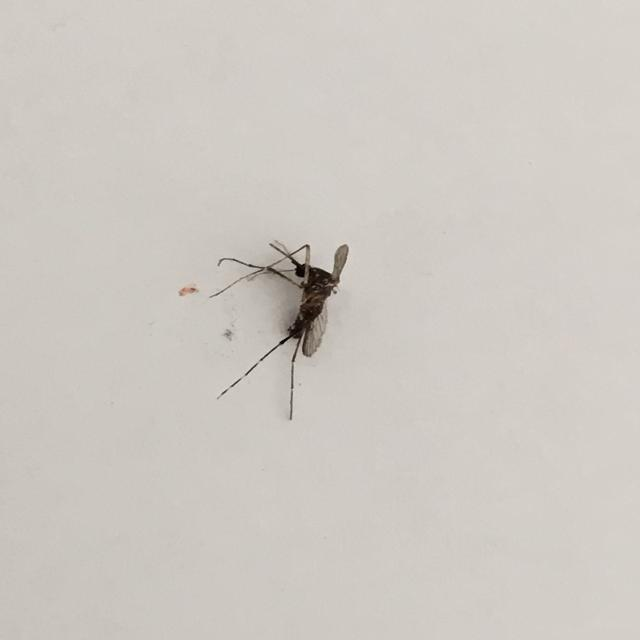albopictus: (197, 228, 355, 418)
